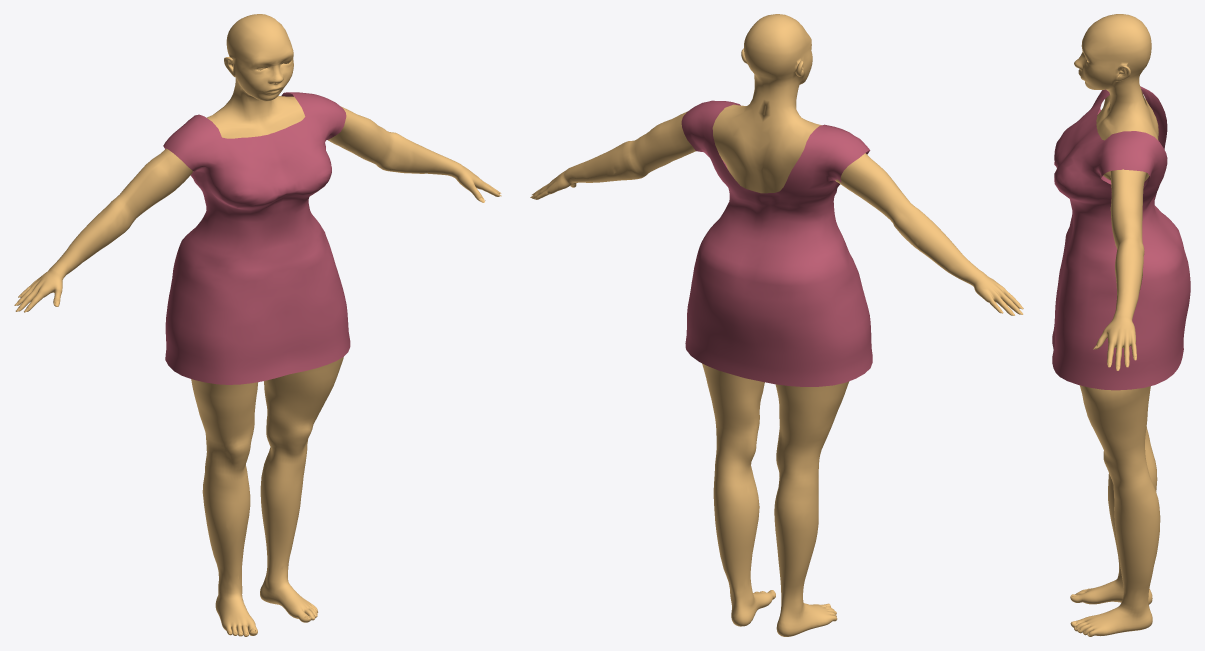
Rendered from dress7.glb.
3 renders of one model, left to right at view 1: azimuth 30°, elevation 25°; view 2: azimuth 150°, elevation 25°; view 3: azimuth 270°, elevation 25°, orthographic.
Parts seen in each view (by area): view 1: Jennifer.F_Dress_01, Body; view 2: Body, Jennifer.F_Dress_01; view 3: Jennifer.F_Dress_01, Body.
Boxes of the visible parts, <box> form: Jennifer.F_Dress_01: <box>163,92,350,384</box>; Body: <box>17,14,500,636</box>; Body: <box>532,14,1020,636</box>; Jennifer.F_Dress_01: <box>681,100,872,386</box>; Jennifer.F_Dress_01: <box>1052,86,1190,390</box>; Body: <box>1070,14,1160,636</box>.
Size of the model in its own units: 1.58 by 1.85 by 0.3879.
